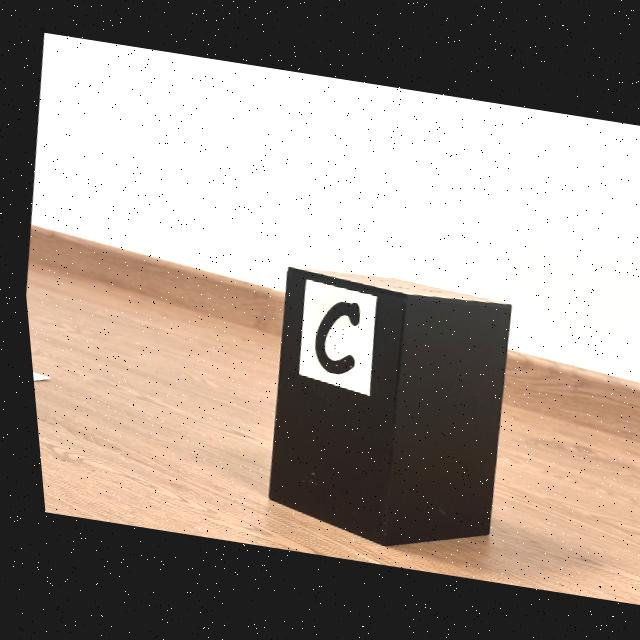C: (308, 302, 354, 375)
